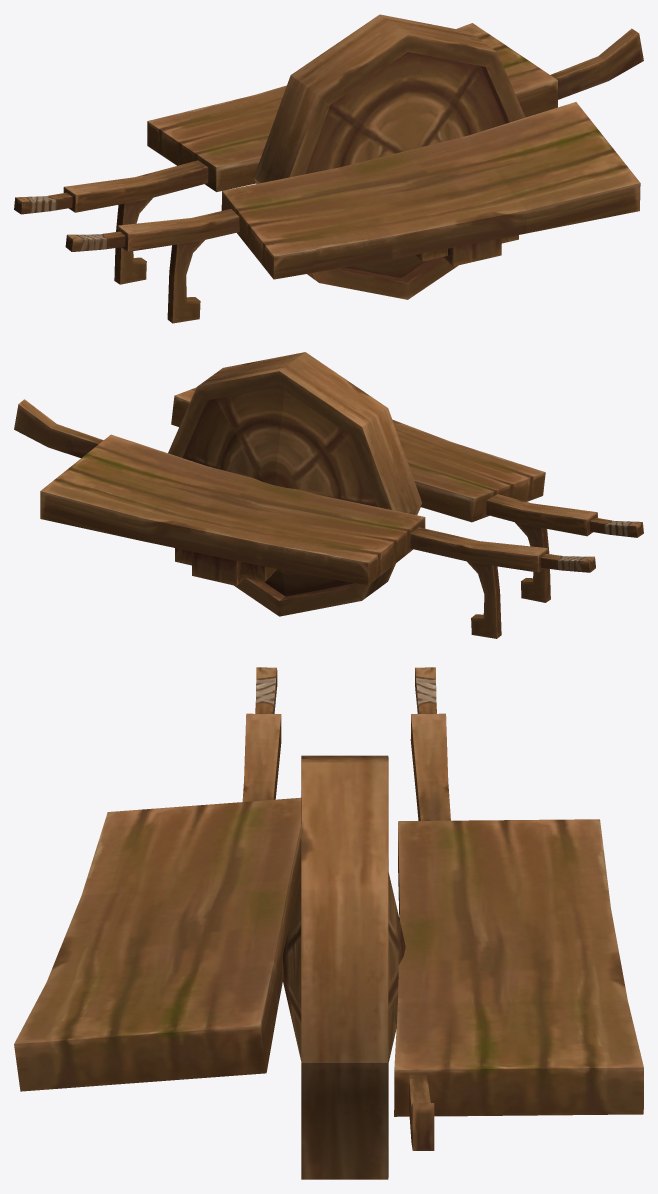
File: CeShi_BFB07_Pinshoutuiche.FBX
The picture shows the model from 3 angles, top to bottom: view 1: azimuth 30°, elevation 25°; view 2: azimuth 150°, elevation 25°; view 3: azimuth 270°, elevation 25°; orthographic projection. The views are drawn at different scales.
Parts seen in each view (by area): view 1: CeShi_BFB07_Pinshoutuiche; view 2: CeShi_BFB07_Pinshoutuiche; view 3: CeShi_BFB07_Pinshoutuiche.
Boxes of the visible parts, <box> form: CeShi_BFB07_Pinshoutuiche: <box>14,14,643,323</box>; CeShi_BFB07_Pinshoutuiche: <box>14,352,643,638</box>; CeShi_BFB07_Pinshoutuiche: <box>14,667,643,1179</box>.
Size of the model in its own units: 372 by 151 by 211.
